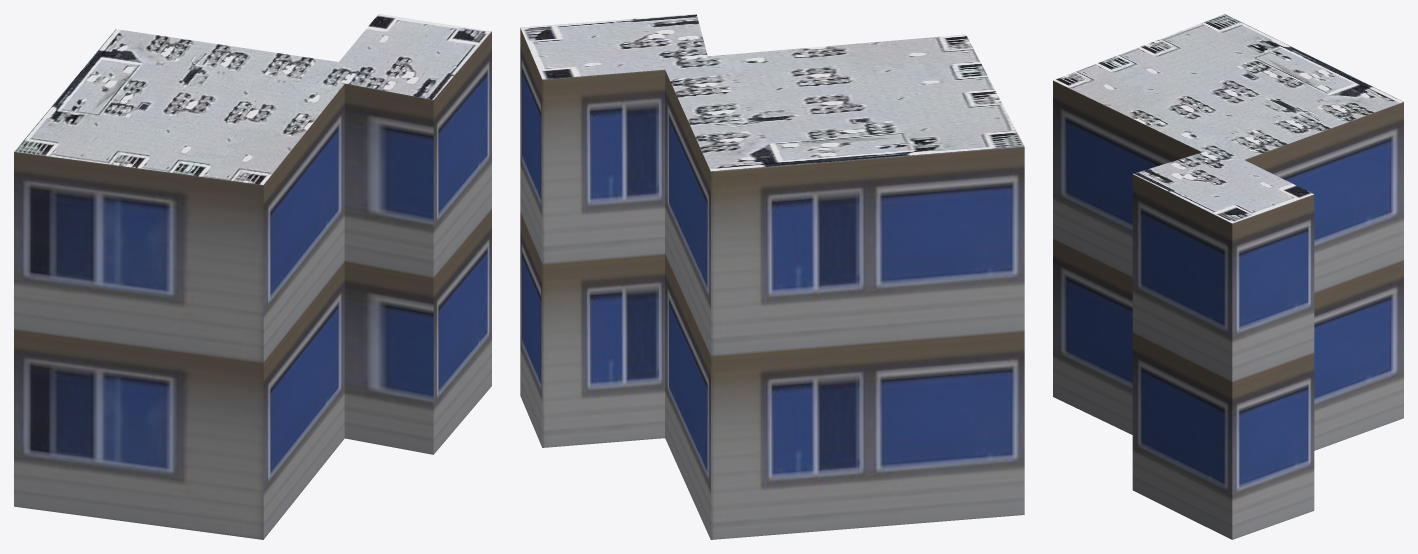
The model's file is ResTex__1646.fbx.
3 renders of one model, left to right at view 1: azimuth 30°, elevation 25°; view 2: azimuth 150°, elevation 25°; view 3: azimuth 270°, elevation 25°, orthographic. The views are drawn at different scales.
Parts seen in each view (by area): view 1: CityEngineMaterial_23_m, CityEngineMaterial_8_m; view 2: CityEngineMaterial_23_m, CityEngineMaterial_8_m; view 3: CityEngineMaterial_23_m, CityEngineMaterial_8_m.
Part boxes in pixels (x1=…): CityEngineMaterial_23_m: x1=14, y1=31, x2=491, y2=539; CityEngineMaterial_8_m: x1=14, y1=14, x2=491, y2=184; CityEngineMaterial_23_m: x1=520, y1=28, x2=1024, y2=539; CityEngineMaterial_8_m: x1=520, y1=14, x2=1024, y2=171; CityEngineMaterial_23_m: x1=1053, y1=80, x2=1403, y2=539; CityEngineMaterial_8_m: x1=1053, y1=14, x2=1403, y2=223.
Size of the model in its own units: 8.52 by 6 by 6.03.
Materials: 2 (2 with a texture image).
